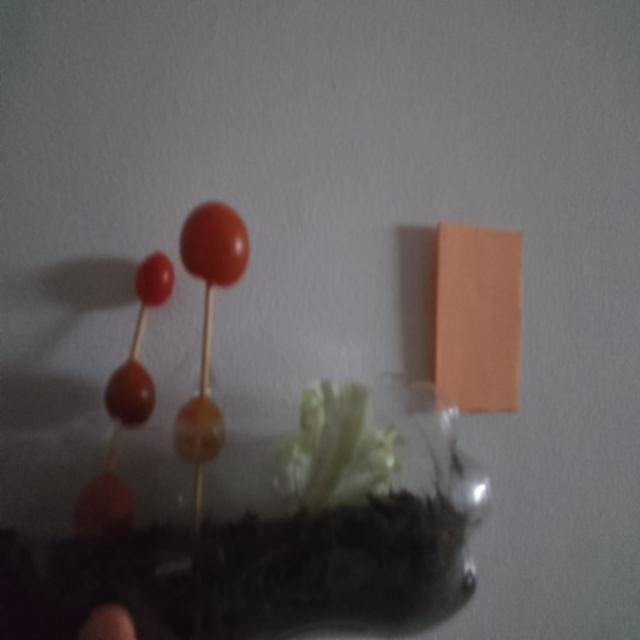card: (433, 223, 522, 411)
fruit_maturation: (174, 395, 225, 464)
fully_grown: (180, 202, 249, 286), (74, 471, 133, 541), (104, 359, 155, 428), (135, 252, 174, 306)
